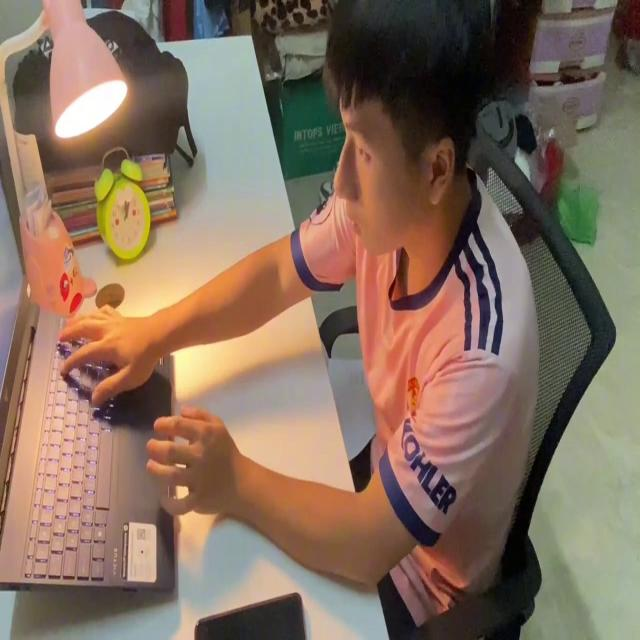laptop: (0, 170, 177, 596)
phone: (190, 586, 308, 640)
student: (55, 0, 530, 632)
